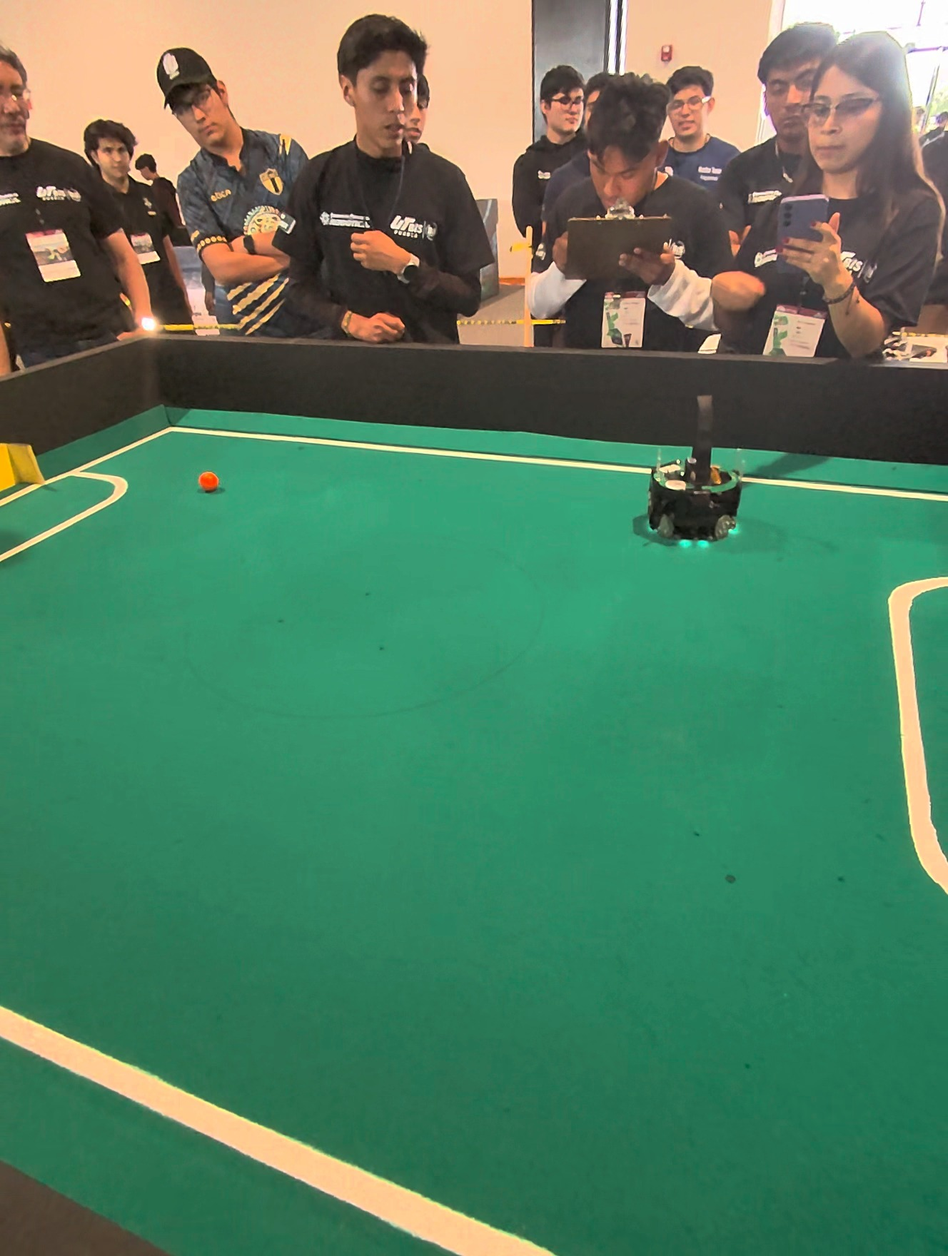Robot: (636, 398, 745, 558)
pelota: (185, 461, 231, 505)
